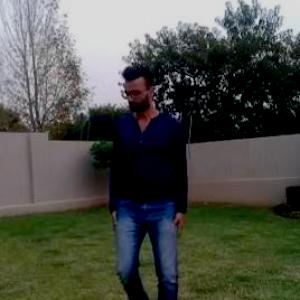follow: (104, 60, 190, 299)
